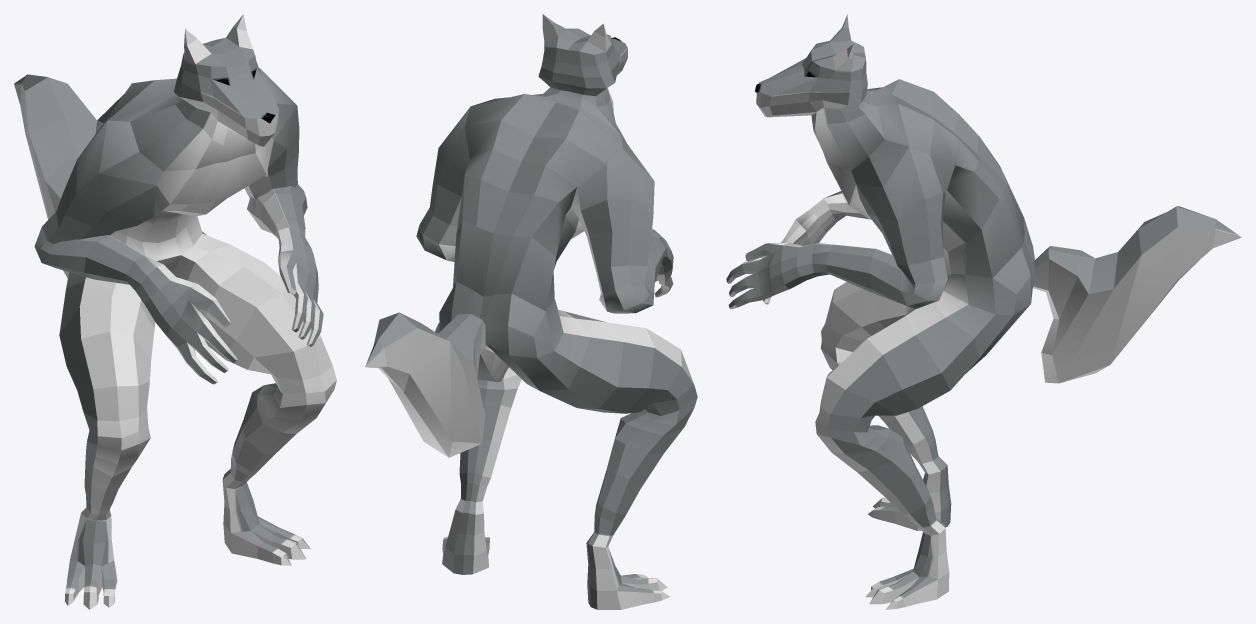
The model's file is WolfIdle_(131).obj.
3 views of the same model, side by side, from view 1: azimuth 30°, elevation 25°; view 2: azimuth 150°, elevation 25°; view 3: azimuth 270°, elevation 25° (orthographic). The views are drawn at different scales.
Parts seen in each view (by area): view 1: Box001; view 2: Box001; view 3: Box001.
Part boxes in pixels (box(x1,y1,x2,y2)): Box001: box(14, 14, 336, 609); Box001: box(365, 14, 697, 609); Box001: box(726, 14, 1241, 609).
Bounding box in the file's own units: 60.89 × 131 × 115.
